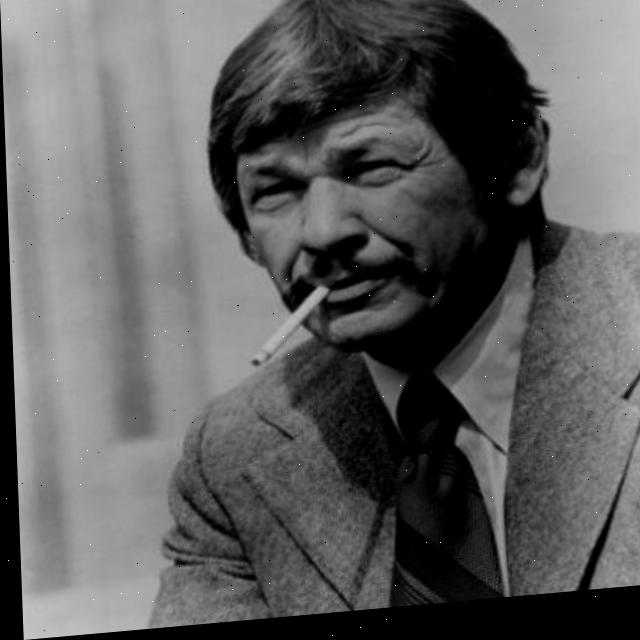cigarette: (242, 289, 334, 372)
